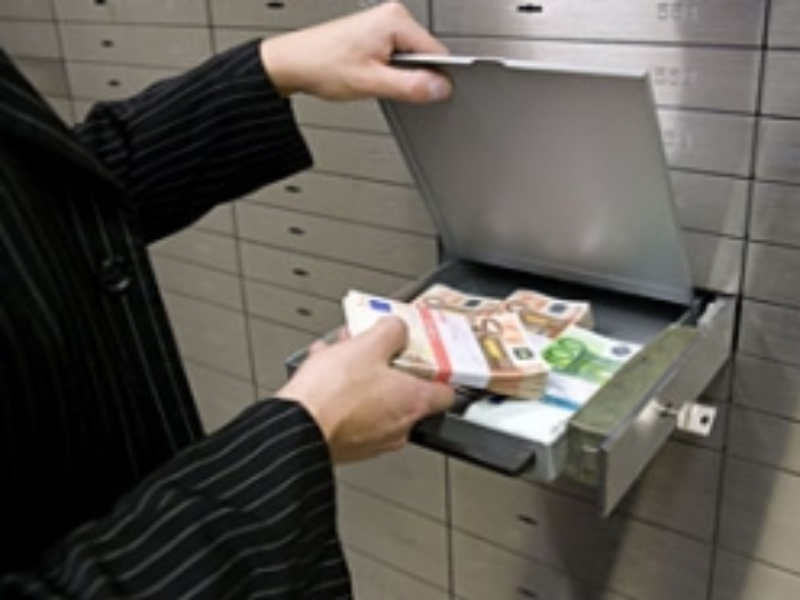cash: (342, 288, 550, 399), (534, 323, 646, 387), (493, 287, 593, 336), (406, 282, 495, 312)
person: (1, 1, 454, 600)
